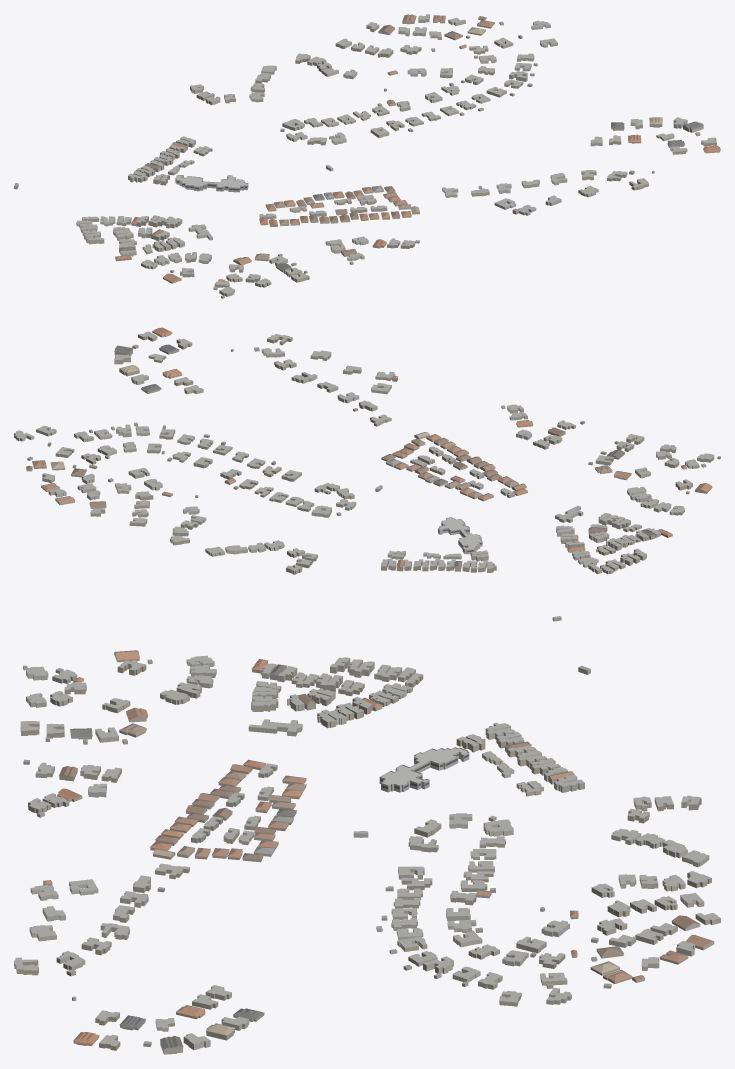
The model's file is buildings_r1_c1.glb.
The picture shows the model from 3 angles, top to bottom: view 1: azimuth 30°, elevation 25°; view 2: azimuth 150°, elevation 25°; view 3: azimuth 270°, elevation 25°; orthographic projection. The views are drawn at different scales.
Visible parts, largest first — view 1: buildings_r1_c1; view 2: buildings_r1_c1; view 3: buildings_r1_c1.
Part boxes in pixels (x1=…): buildings_r1_c1: x1=14, y1=14, x2=720, y2=298; buildings_r1_c1: x1=14, y1=327, x2=720, y2=621; buildings_r1_c1: x1=14, y1=650, x2=720, y2=1054.
Bounding box in the file's own units: 1151 × 86.42 × 812.
